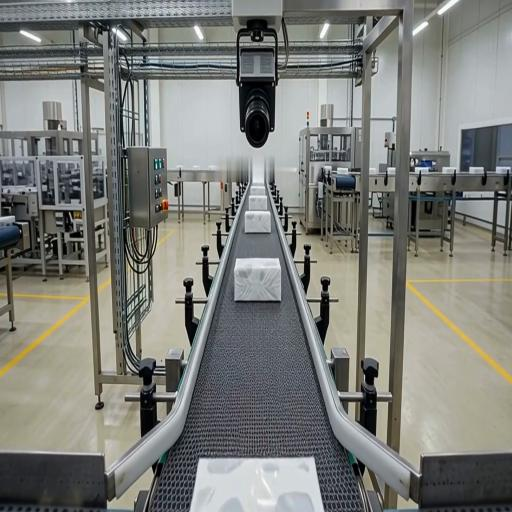good: (190, 455, 323, 512), (233, 257, 281, 302), (244, 209, 272, 234), (248, 194, 269, 212), (250, 183, 266, 194)
